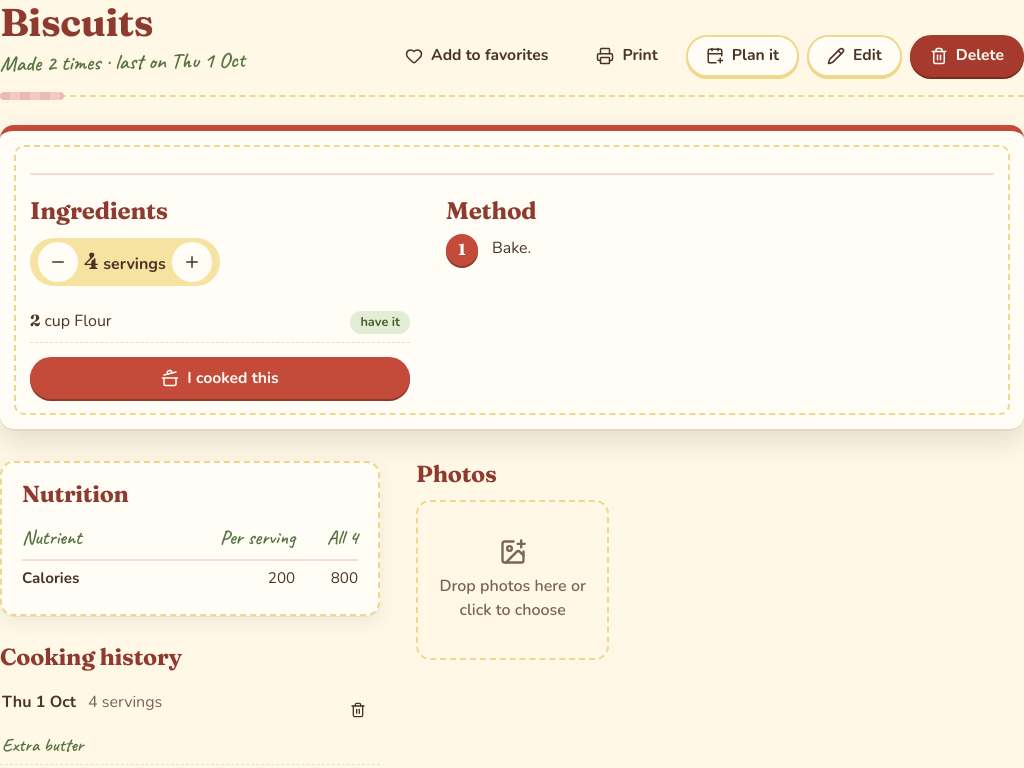
offers Undo after cooking, which deletes the cook log
The image size is (1024, 768).
Click the button "I cooked this".
click(220, 378)  # box [30, 357, 410, 399]
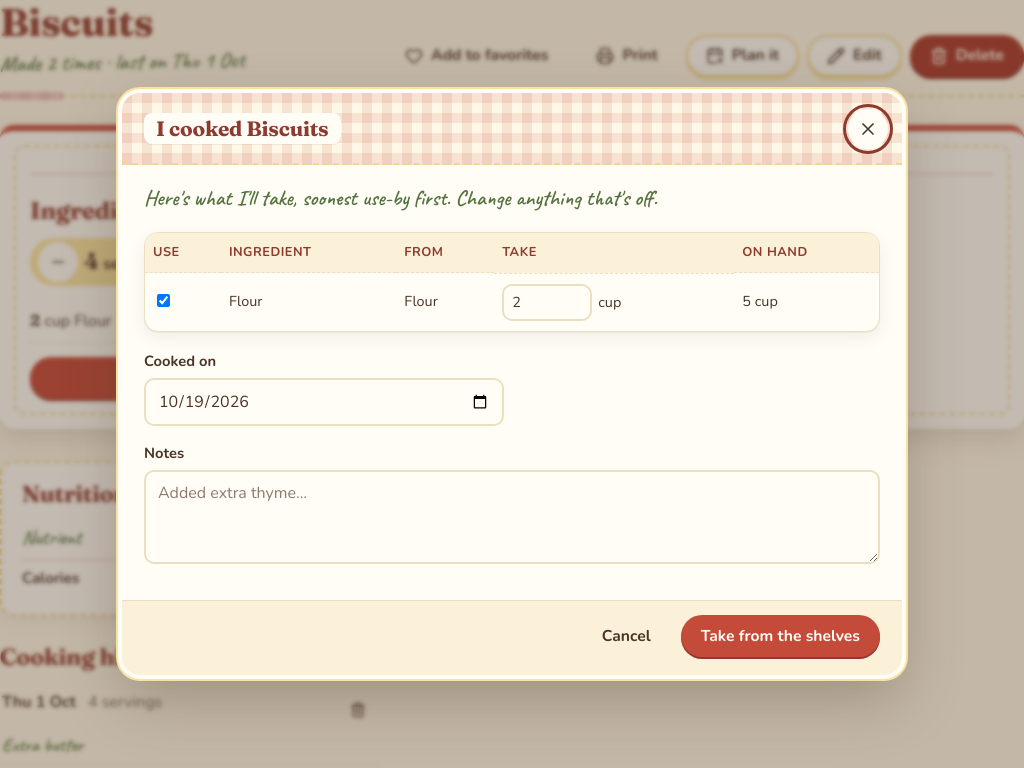
Click the button "Take from the shelves".
click(780, 636)  # box [681, 616, 880, 658]
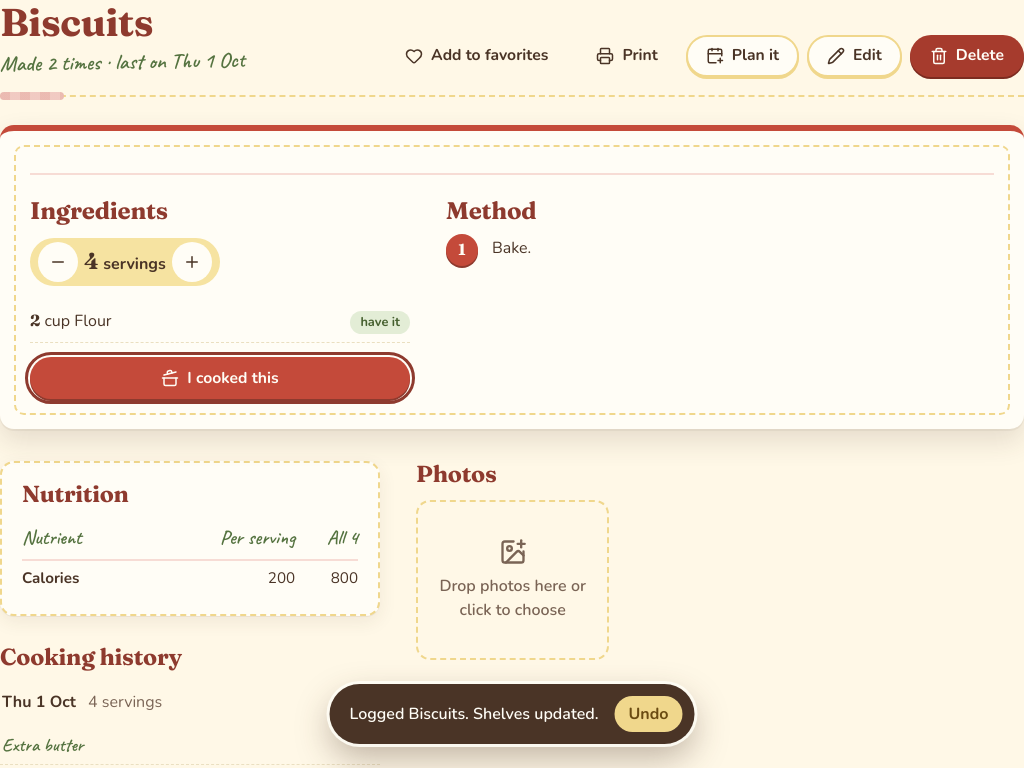
Click the button "Undo".
click(648, 714)  # box [614, 696, 682, 732]
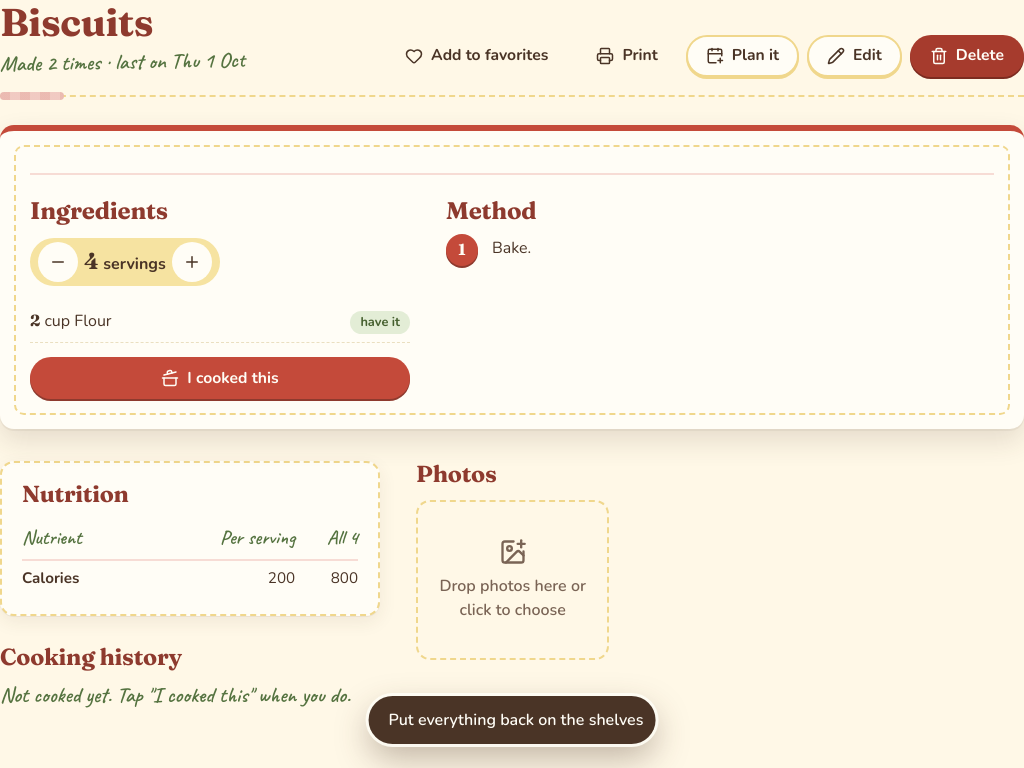
Result: the text "Put everything back on the shelves" is shown at [389, 708, 644, 732]
